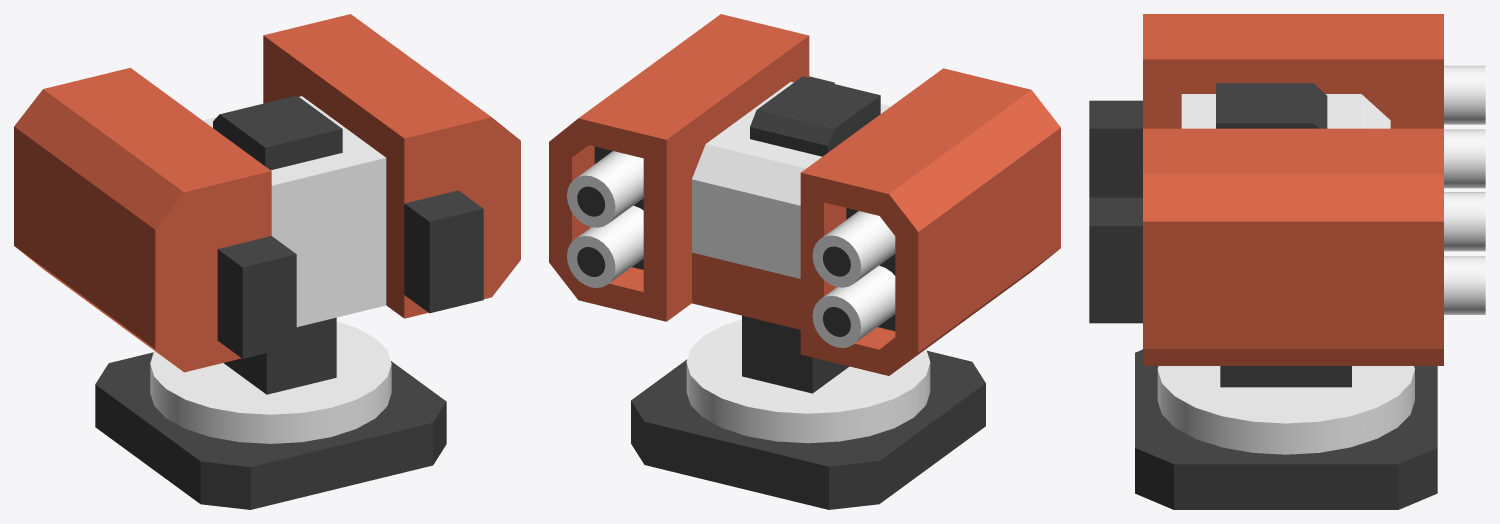
Rendered from turretDouble_exclusive.fbx.
3 renders of one model, left to right at view 1: azimuth 30°, elevation 25°; view 2: azimuth 150°, elevation 25°; view 3: azimuth 270°, elevation 25°, orthographic. The views are drawn at different scales.
Visible parts, largest first — view 1: turretDouble_exclusive, turretWeapon_left, turretWeapon_right; view 2: turretDouble_exclusive, turretWeapon_left, turretWeapon_right; view 3: turretWeapon_right, turretDouble_exclusive, turretWeapon_left.
Boxes of the visible parts, left/top/right/bottom form: turretDouble_exclusive: left=95, top=95, right=446, bottom=509; turretWeapon_left: left=14, top=67, right=296, bottom=372; turretWeapon_right: left=263, top=14, right=520, bottom=318; turretDouble_exclusive: left=631, top=76, right=985, bottom=509; turretWeapon_left: left=800, top=68, right=1060, bottom=375; turretWeapon_right: left=549, top=14, right=834, bottom=321; turretWeapon_right: left=1089, top=128, right=1485, bottom=365; turretDouble_exclusive: left=1135, top=83, right=1437, bottom=509; turretWeapon_left: left=1089, top=14, right=1485, bottom=197.
Size of the model in its own units: 6.58 by 5.67 by 5.79.
